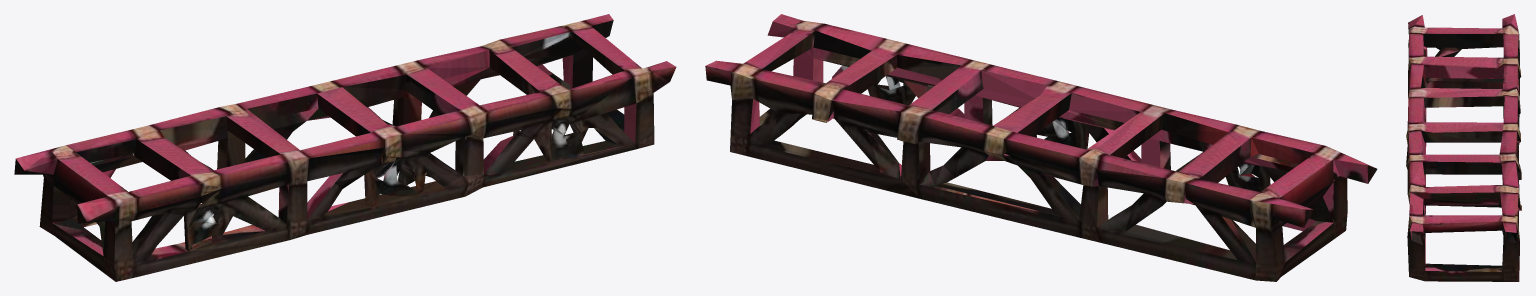
The model's file is park_coaster_track_1117.glb.
3 renders of one model, left to right at view 1: azimuth 30°, elevation 25°; view 2: azimuth 150°, elevation 25°; view 3: azimuth 270°, elevation 25°, orthographic. The views are drawn at different scales.
Visible parts, largest first — view 1: world; view 2: world; view 3: world.
Boxes of the visible parts, bbox=[...] form: world: bbox=[14, 14, 676, 281]; world: bbox=[705, 14, 1377, 281]; world: bbox=[1406, 14, 1521, 281].
Size of the model in its own units: 7.59 by 1 by 1.7.
Materials: 1 (1 with a texture image).
